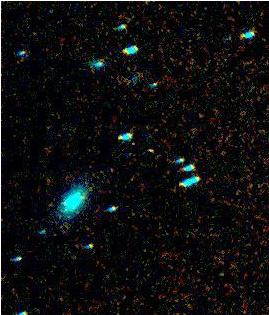star: (142, 133, 172, 163)
